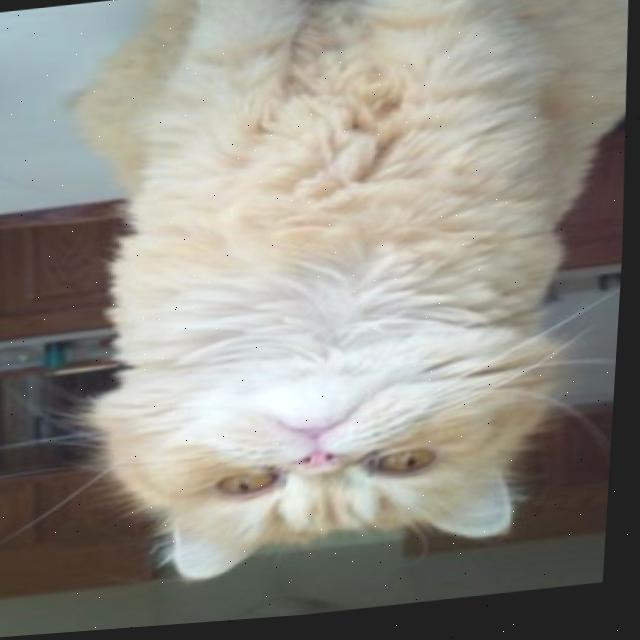Persian: (37, 0, 640, 602)
